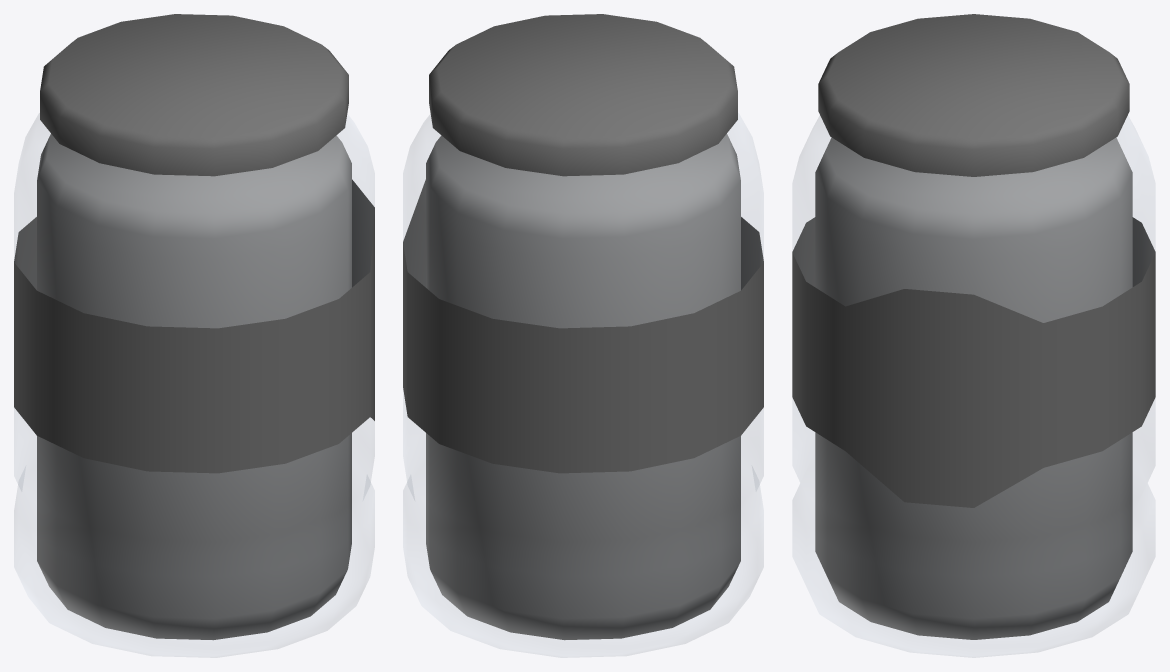
Rendered from bottle2.fbx.
3 views of the same model, side by side, from view 1: azimuth 30°, elevation 25°; view 2: azimuth 150°, elevation 25°; view 3: azimuth 270°, elevation 25° (orthographic).
Parts seen in each view (by area): view 1: Bottle-2; view 2: Bottle-2; view 3: Bottle-2.
Part boxes in pixels (x1,y1,x2,y2): Bottle-2: (14, 14, 374, 657); Bottle-2: (403, 14, 763, 657); Bottle-2: (792, 14, 1155, 657).
Bounding box in the file's own units: 200 × 320 × 200.
